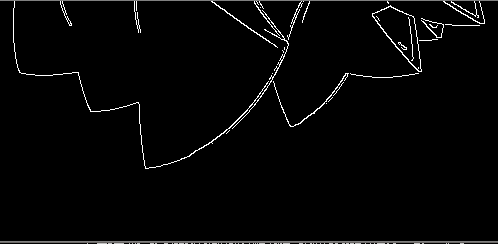opera house: (1, 1, 496, 185)
